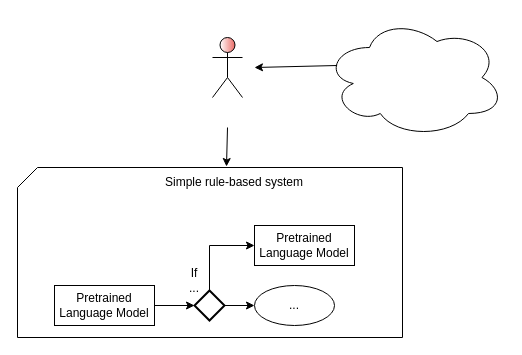
Image size: 522x355. Some labels were removed from this diagram. The shapes that lost their labels are listed below. From the top down, each one's box as (x1, y1, x2, y2) in pixels, then its label:
(212, 36, 242, 98): Engineer
(324, 16, 504, 138): Target task
